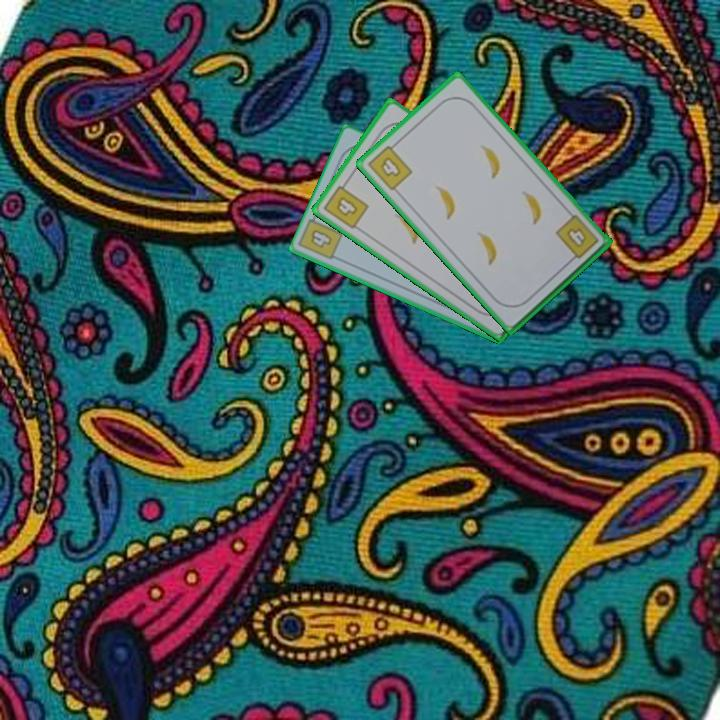4b: (320, 177, 372, 232), (364, 138, 415, 194), (552, 211, 602, 265), (307, 226, 335, 251)
